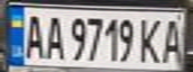1: (103, 15, 121, 62)
7: (84, 14, 103, 62)
9: (66, 12, 87, 61), (118, 15, 139, 63)
A: (21, 10, 48, 60), (160, 15, 187, 64), (42, 11, 66, 61)
K: (136, 15, 166, 64)
